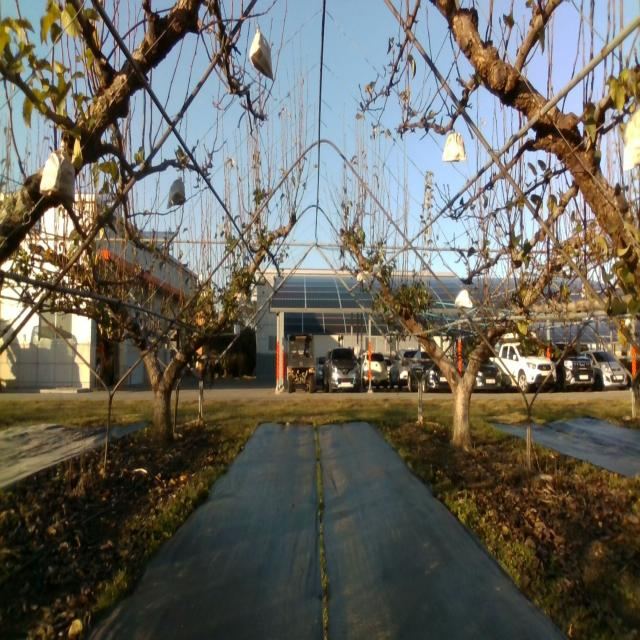pearbags: (39, 150, 74, 206), (248, 23, 274, 85), (442, 124, 466, 163), (166, 176, 186, 208), (455, 284, 473, 310)
